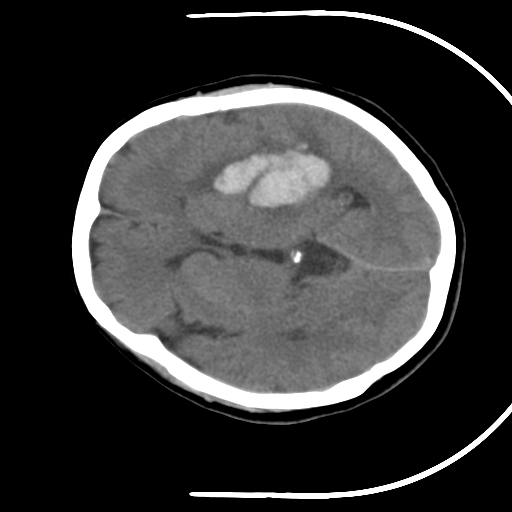a: (176, 128, 350, 222)
